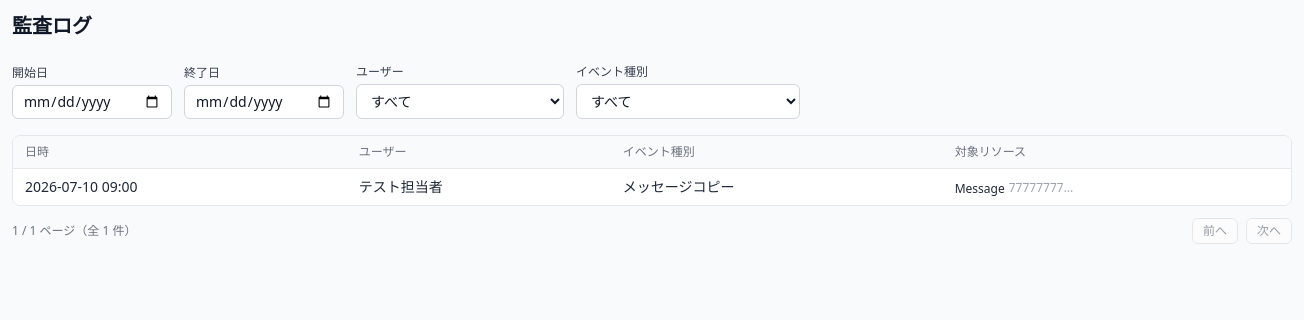
AuditLogsPage（S9） › 絞り込み 0 件は空状態 + フィルタクリアで解除できる
Expected: the cell "メッセージコピー" is shown, [611, 168, 943, 205]
Step 1. Select "ログイン" in the dropdown labelled "イベント種別" → (688,102), box [576, 84, 800, 119]
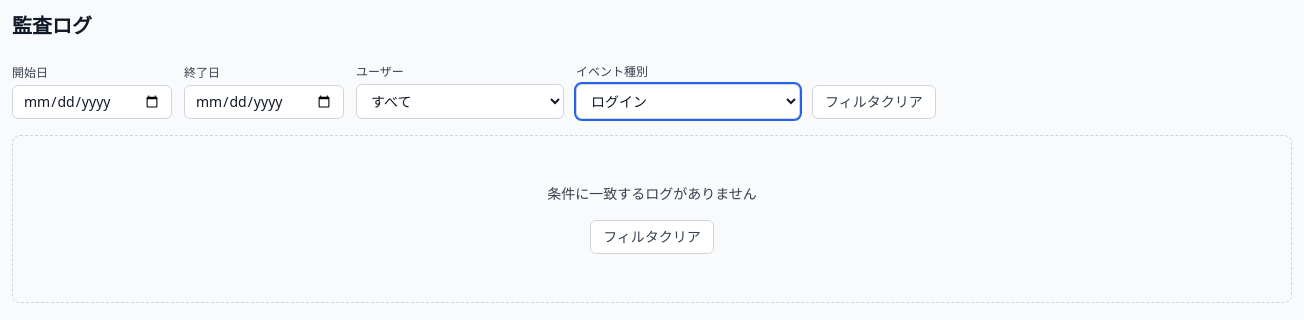
Now the text "条件に一致するログがありません" is shown, box [547, 184, 757, 204]
# フィルタクリアで全件へ戻る
Step 2. Click the button "フィルタクリア" below "イベント種別" → (874,102), box [812, 85, 936, 119]
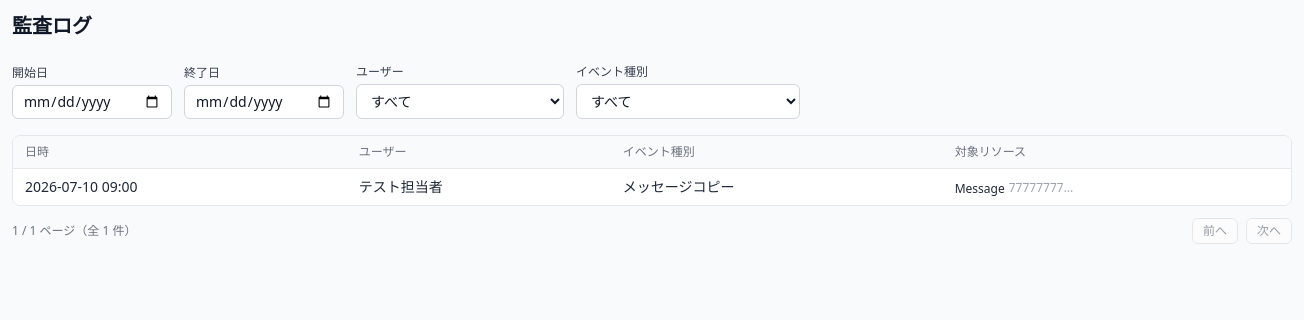
Now the cell "メッセージコピー" is shown, box [611, 168, 943, 205]
